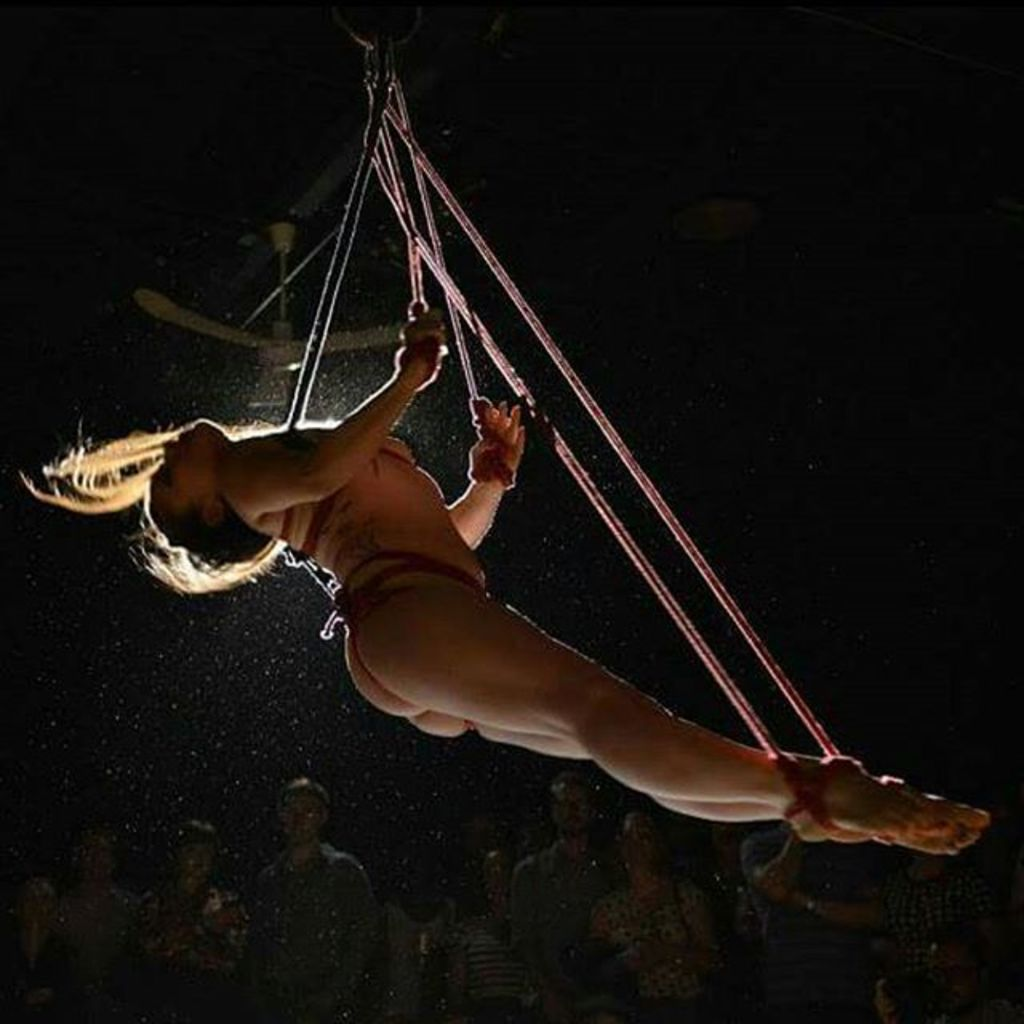Person: (0, 767, 1024, 1024)
